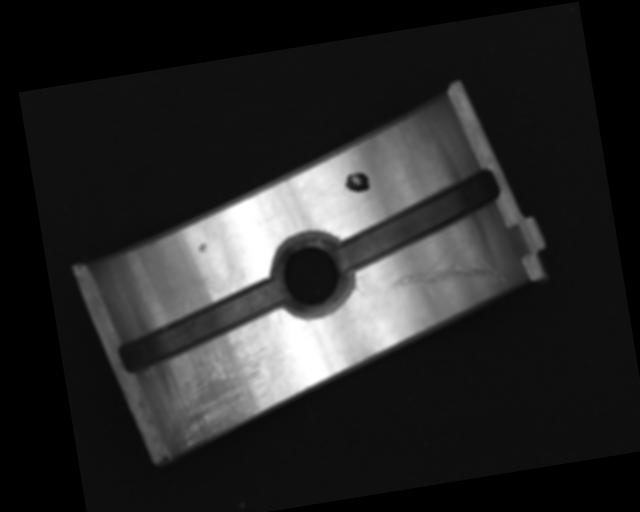blot: (342, 169, 372, 195)
bruise: (196, 243, 209, 252)
gap: (327, 164, 509, 273), (109, 278, 290, 374)
hole: (265, 230, 358, 323)
nick: (383, 236, 508, 300)
scratch: (156, 331, 280, 450)
